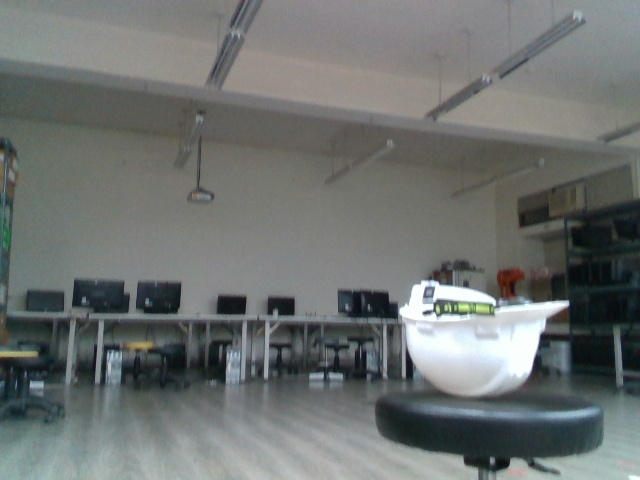helmet: (395, 274, 573, 402)
